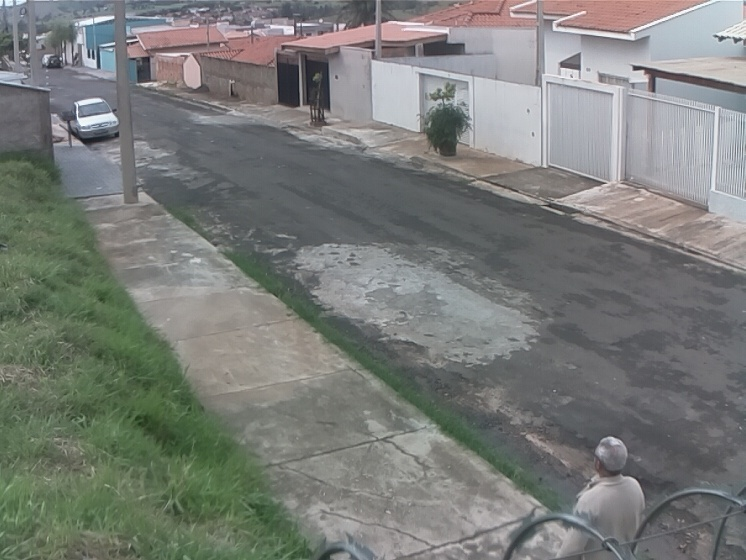person: (545, 436, 646, 560)
